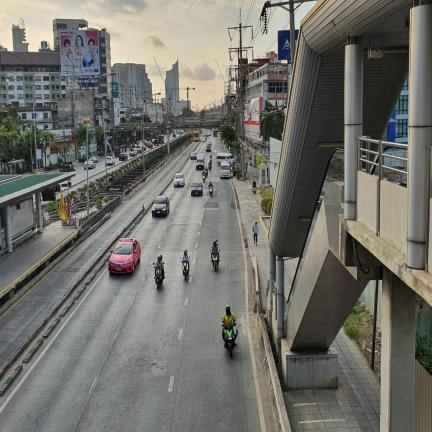bus: (193, 130, 199, 141), (213, 130, 217, 136)
car: (152, 196, 169, 216), (173, 173, 184, 187), (191, 182, 202, 195), (83, 159, 96, 169), (105, 156, 115, 165), (119, 152, 128, 160), (129, 148, 137, 156), (89, 156, 98, 163), (136, 145, 142, 153), (190, 152, 196, 159), (206, 145, 211, 152)
human: (221, 305, 236, 341), (155, 254, 164, 278), (211, 239, 220, 261), (181, 249, 190, 270), (252, 222, 258, 245)
motorbike: (224, 325, 236, 357), (154, 263, 163, 289), (212, 252, 219, 271), (183, 261, 189, 279), (209, 186, 213, 196), (252, 186, 256, 194), (209, 161, 212, 171), (202, 174, 206, 181), (205, 168, 208, 176)
pickup: (114, 149, 121, 157), (153, 139, 159, 146)
taxi: (108, 238, 141, 273)
truck: (196, 153, 205, 169)
van: (216, 153, 235, 165), (220, 160, 230, 177), (60, 181, 71, 191)
